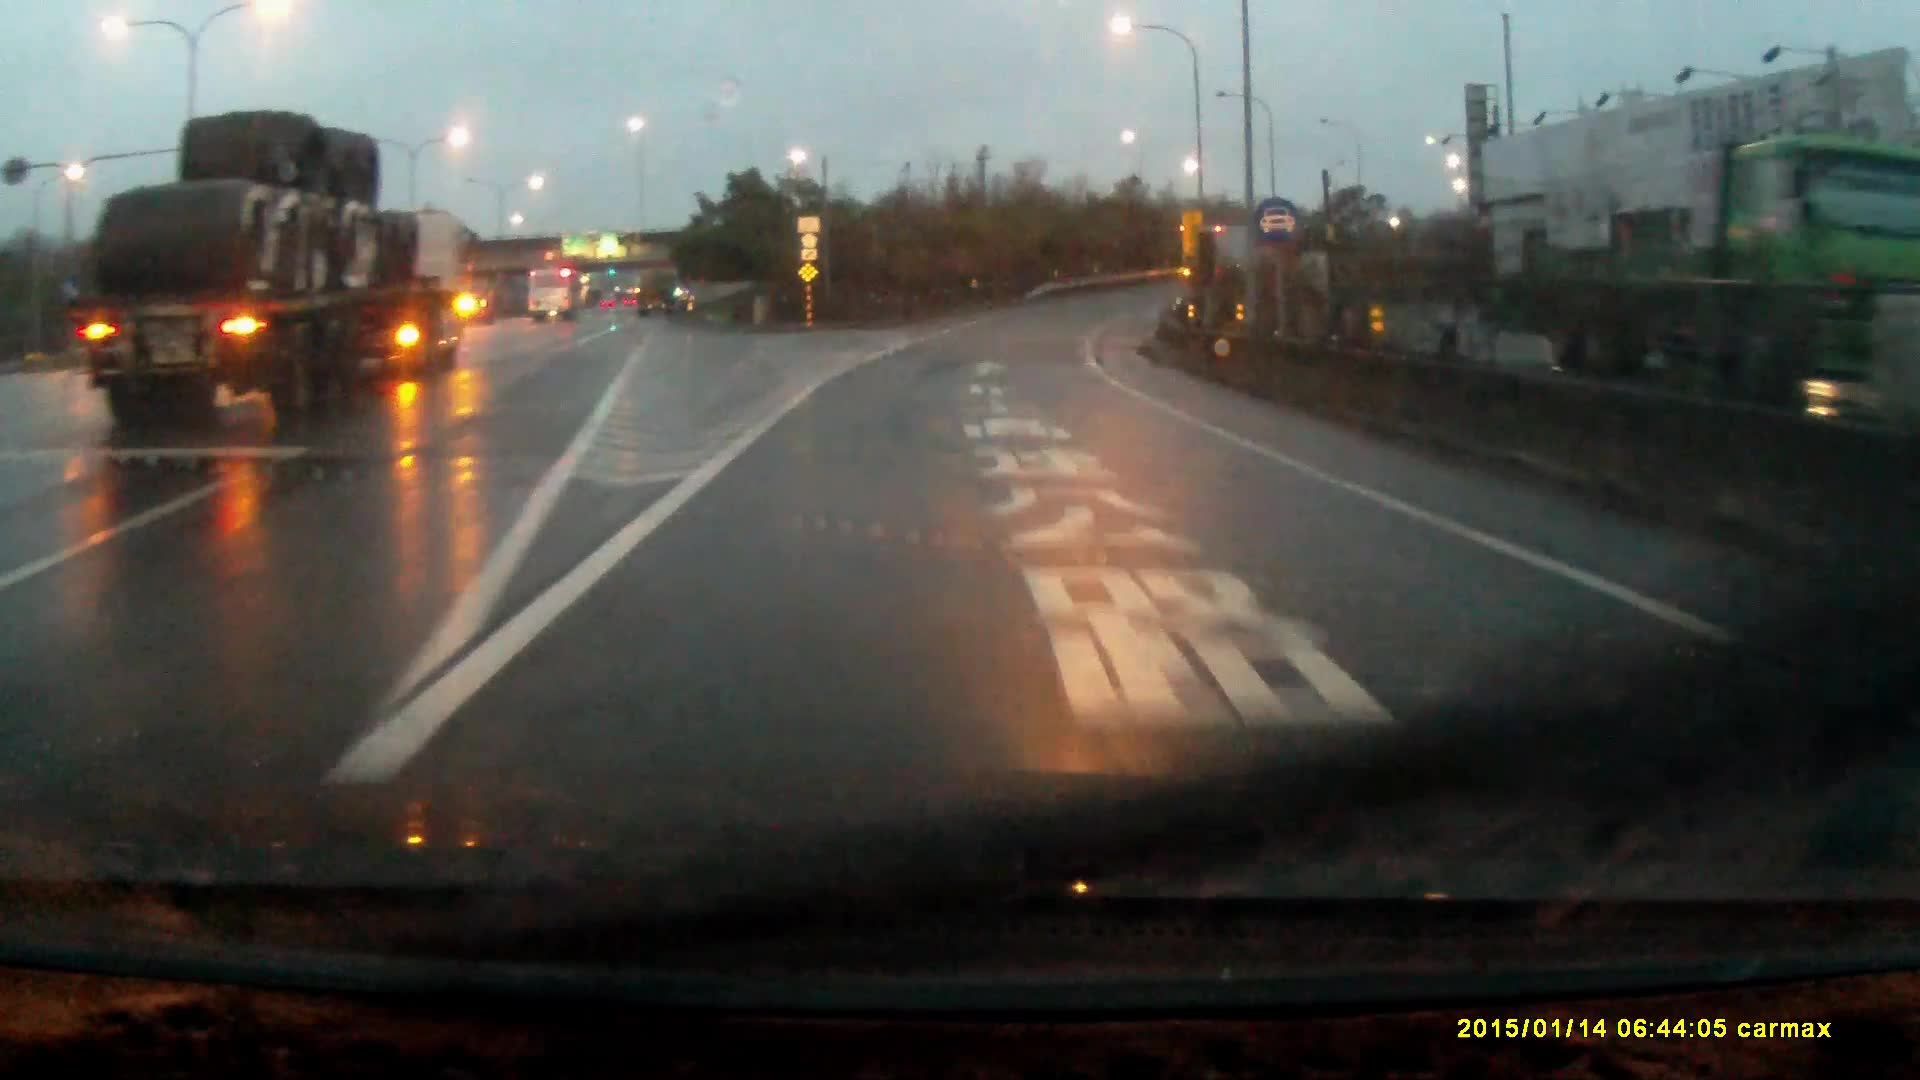vehicle: (69, 111, 473, 417), (527, 268, 583, 326)
